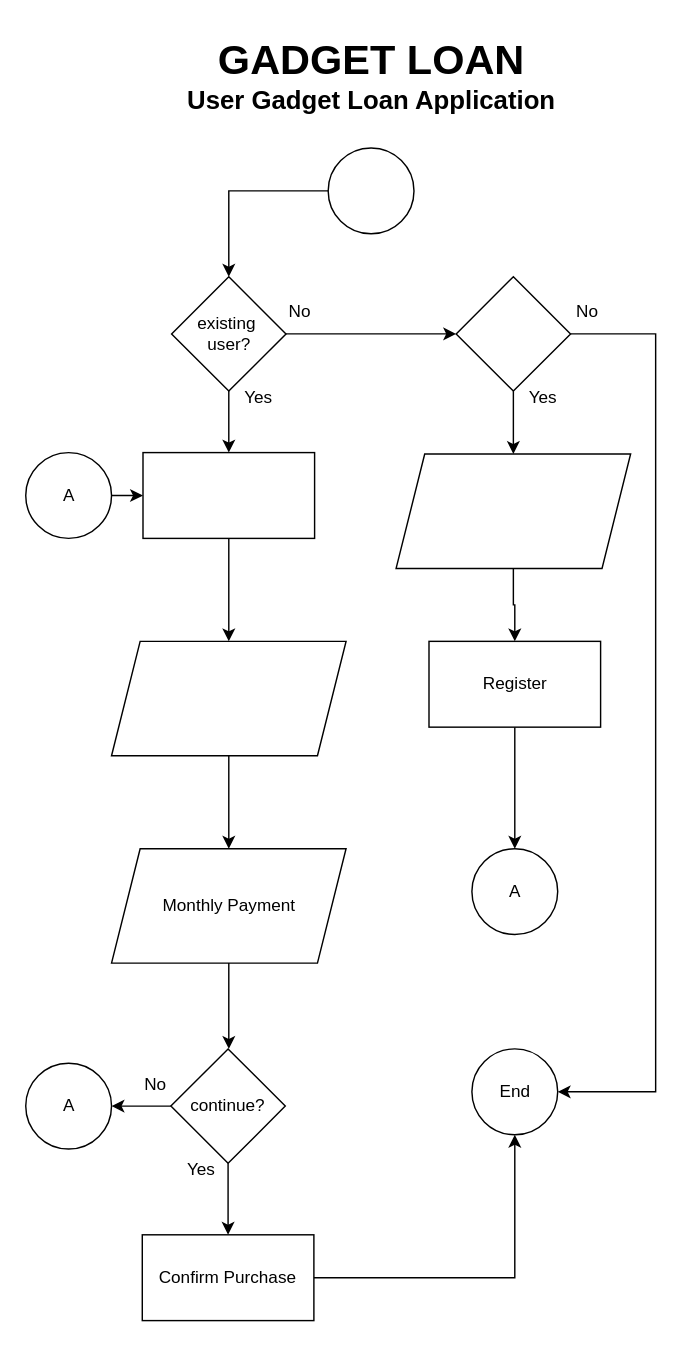
Some shapes in this 692 by 1346 pixel diagram are drawn without their labels. Here are the shapes that lost their labels. From the top down, the centre of each, then its label:
the point at 370,190: Start
the point at 513,333: create account?
the point at 228,494: Select Gadget
the point at 513,510: Input Name, Email, Birthdate, Gender, Phone Number, Address
the point at 228,698: Select Preferred Loan Tenure
